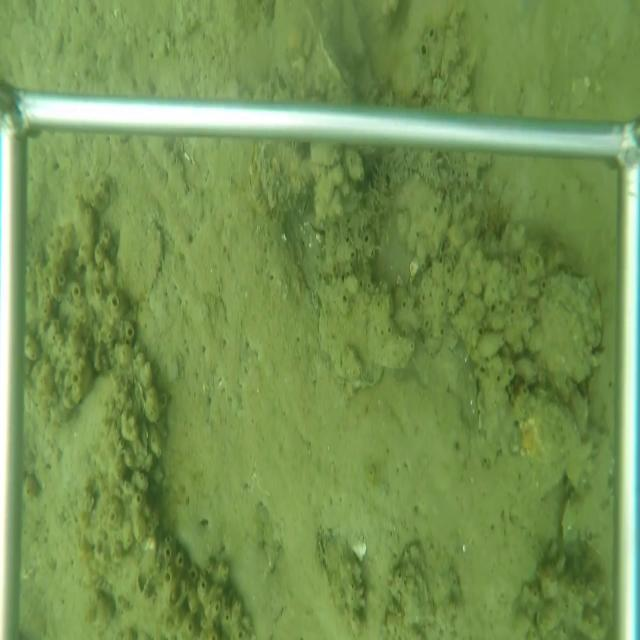Oyster-Closed: (313, 274, 389, 393), (306, 5, 357, 92)
Oyster-Indeterminate: (525, 257, 607, 406), (115, 212, 167, 314)
